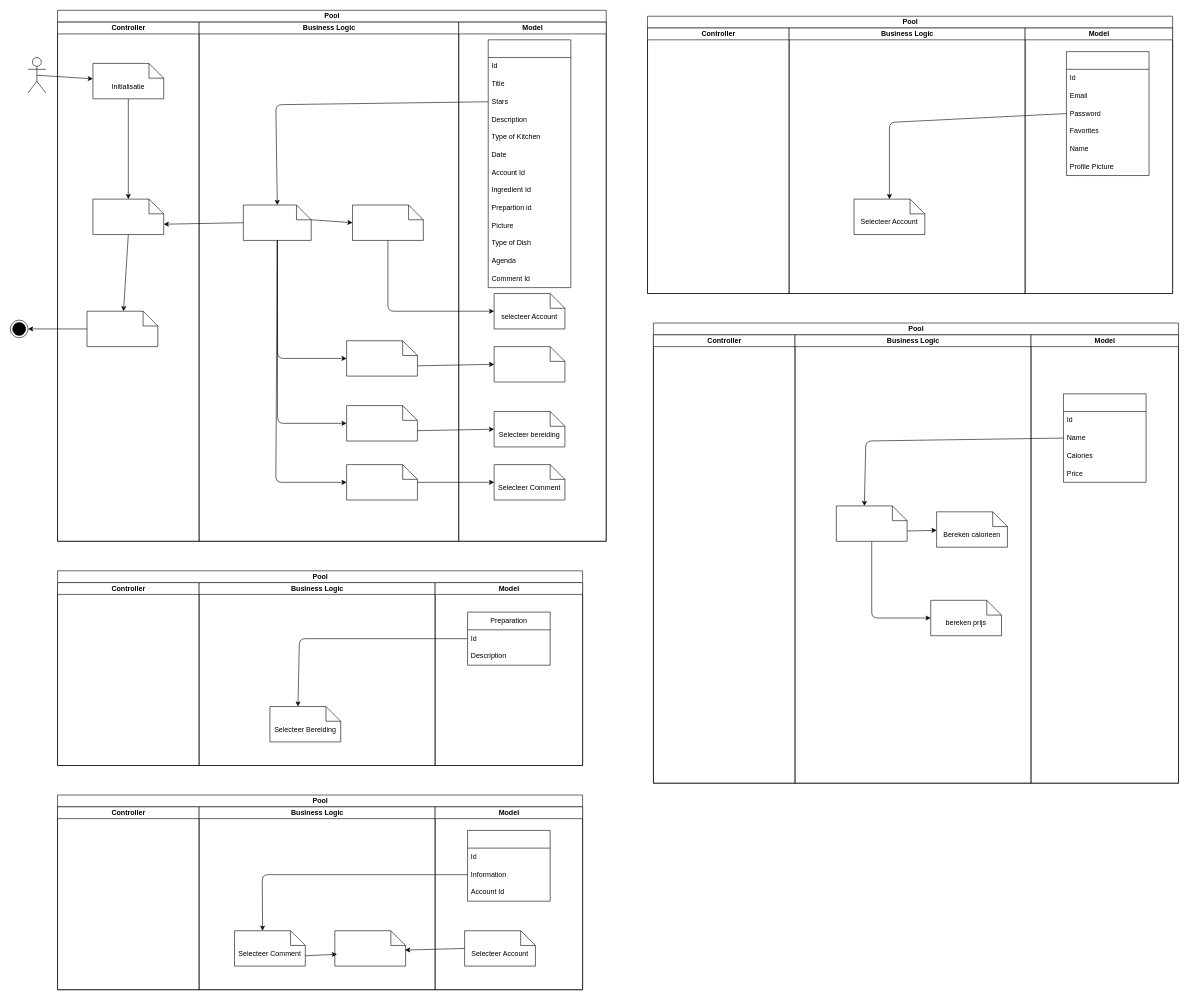
Image size: 1189x1000. Some labels were removed from this diagram. The shapes that lost their labels are listed below. From the top down, each one's box as (x1, y1, x2, y2) in pixels, then its label:
(27, 57, 46, 93): Actor
(1066, 51, 1149, 176): Account
(488, 39, 571, 288): Recept
(92, 199, 164, 235): Recept ophalen
(243, 204, 311, 240): Selecteer Recept
(352, 204, 423, 240): Ophalen Recept
(86, 311, 158, 347): Recept tonen
(346, 340, 417, 376): Ophalen Ingredient
(494, 346, 565, 382): Selecteer Ingredient
(346, 405, 417, 441): Ophalen bereiding
(1063, 393, 1146, 482): Ingredient
(346, 464, 417, 500): Ophalen comment
(836, 505, 907, 541): slecteer Ingredient
(467, 830, 550, 901): Comment
(334, 930, 406, 966): Ophalen Account
